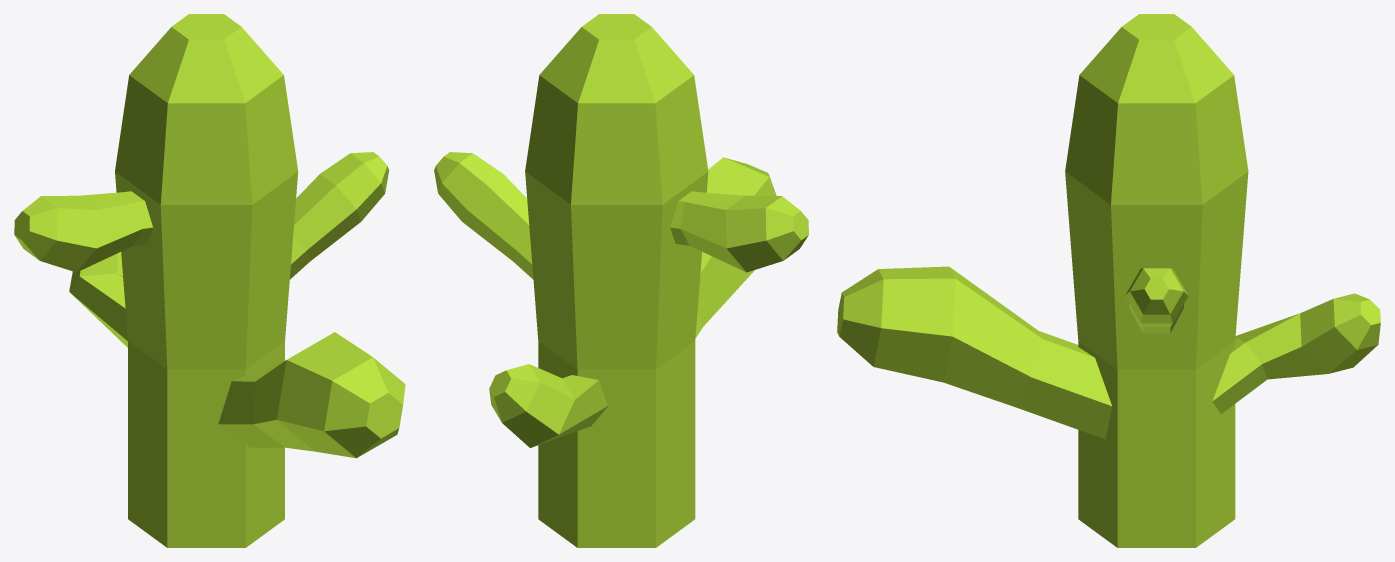
The model's file is kaktus1.fbx.
The picture shows the model from 3 angles, left to right: view 1: azimuth 30°, elevation 25°; view 2: azimuth 150°, elevation 25°; view 3: azimuth 270°, elevation 25°; orthographic projection.
Parts seen in each view (by area): view 1: Circle.003; view 2: Circle.003; view 3: Circle.003.
Part boxes in pixels (x1,y1,x2,y2): Circle.003: (14,14,405,547); Circle.003: (434,14,808,547); Circle.003: (837,14,1380,547).
Bounding box in the file's own units: 542 × 692 × 693.
